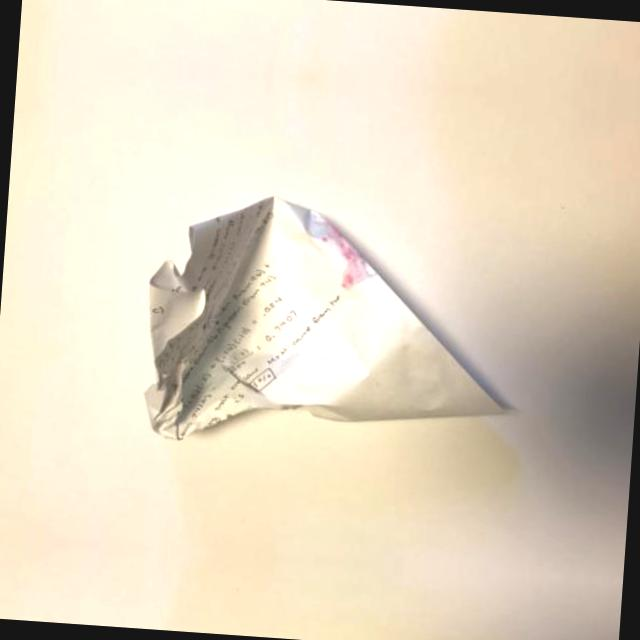paper: (106, 173, 546, 480)
